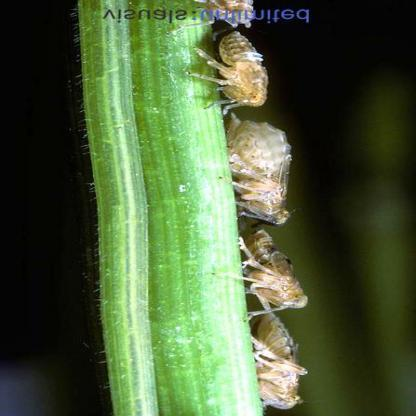brown-planthopper: (223, 119, 296, 226), (235, 230, 311, 311), (248, 324, 306, 411), (210, 29, 268, 108)
